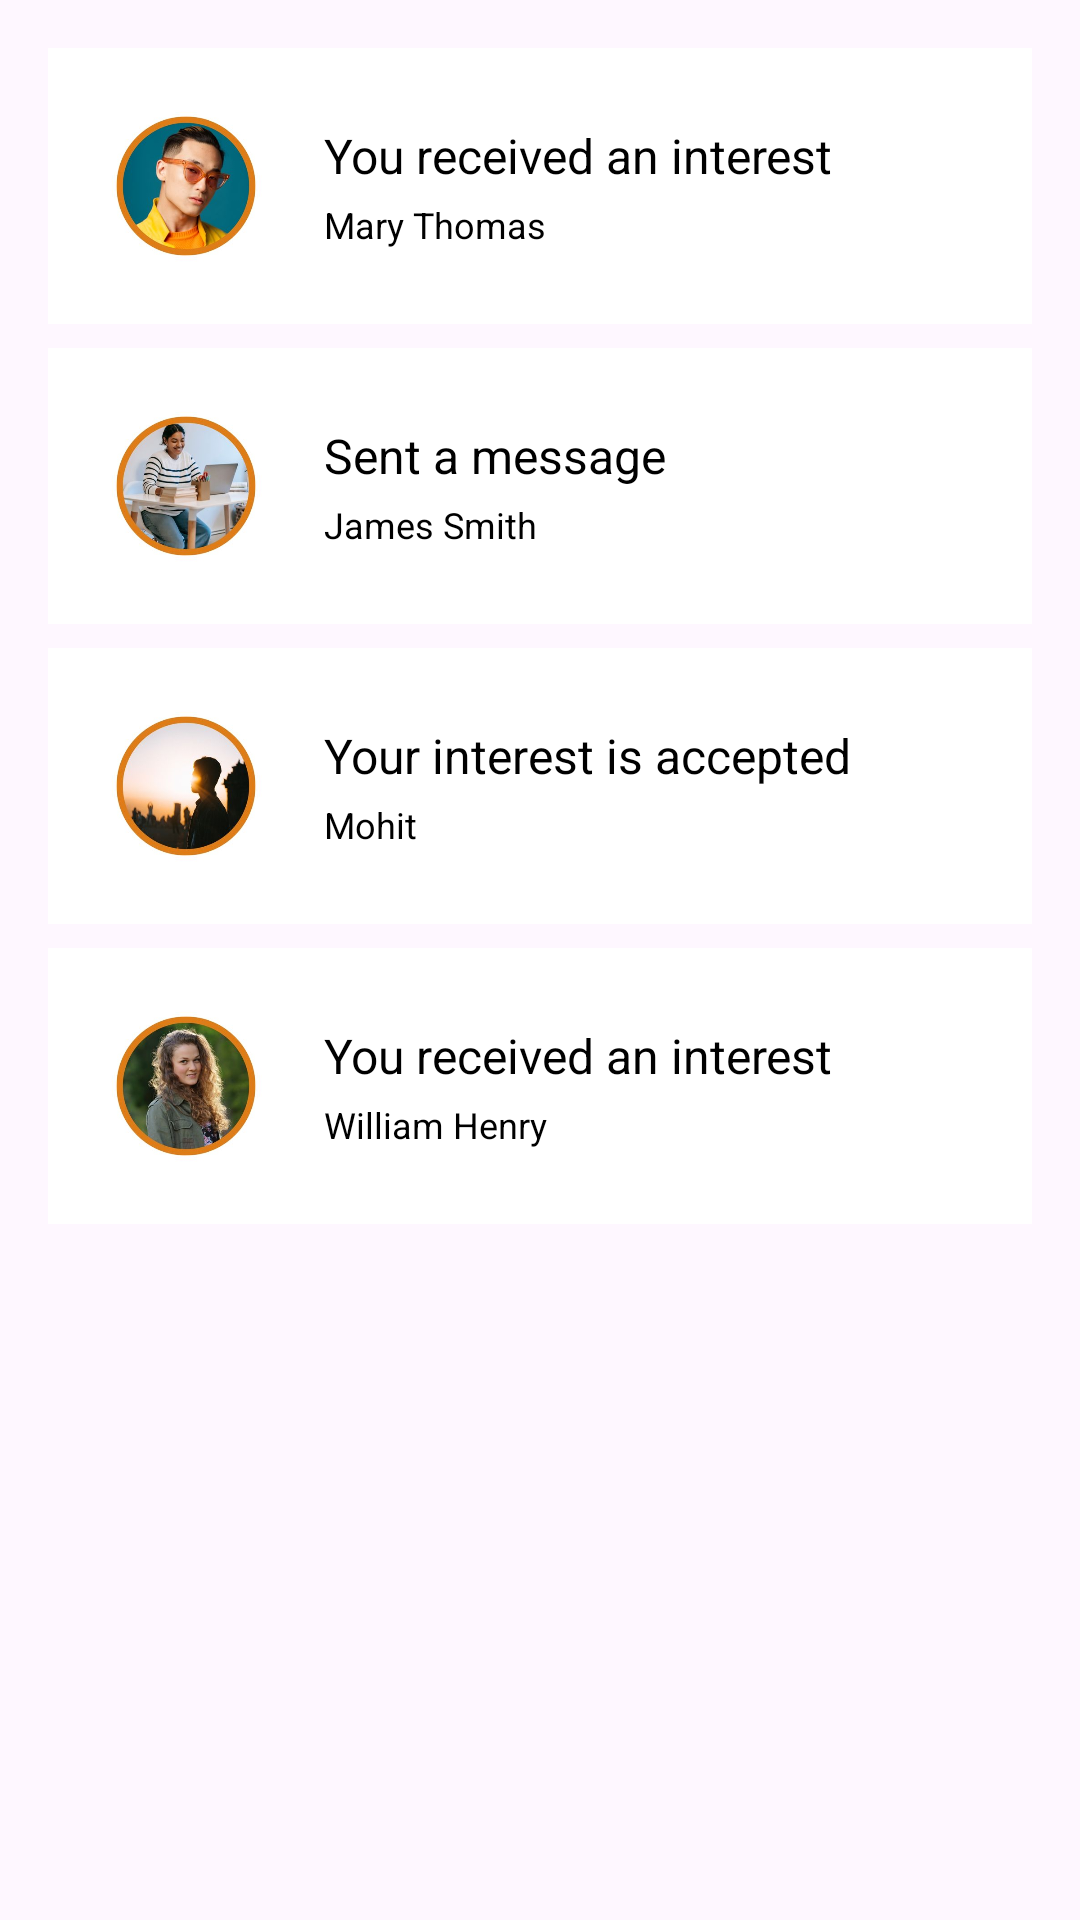

Point at icon controls on the screen. Image size 1080px×1920px, points as point (x, y).
man: point (186, 186)
